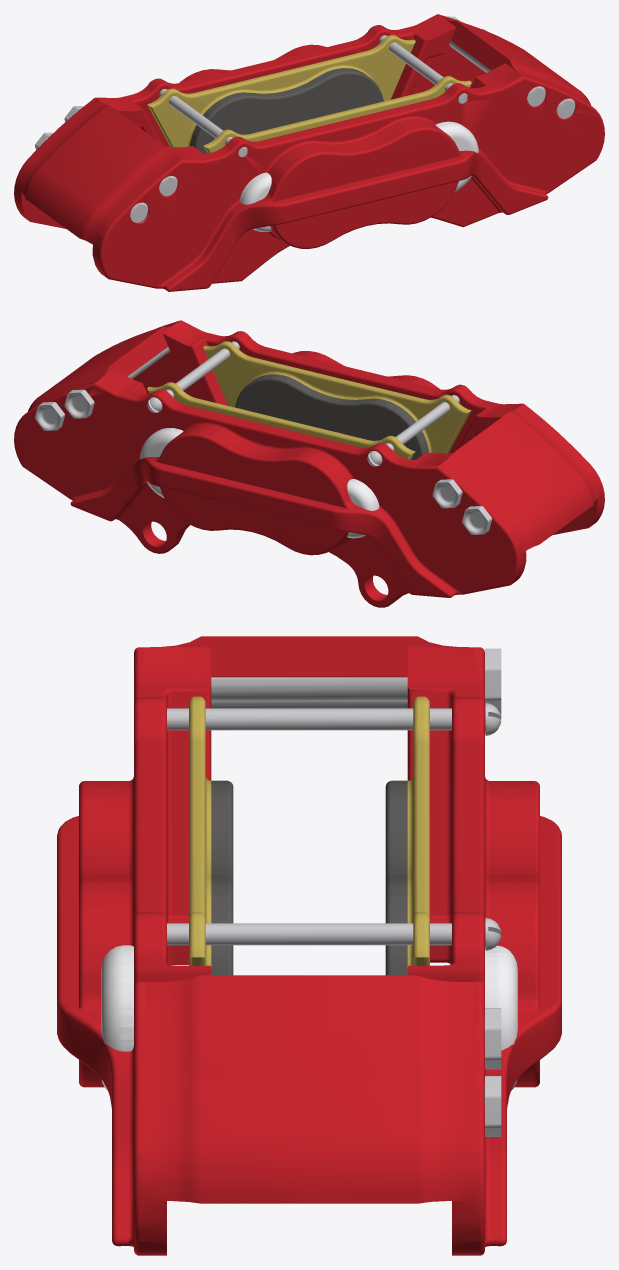
File: monoblock-6p.glb
3 renders of one model, top to bottom at view 1: azimuth 30°, elevation 25°; view 2: azimuth 150°, elevation 25°; view 3: azimuth 270°, elevation 25°, orthographic. The views are drawn at different scales.
Visible parts, largest first — view 1: CaliperBody, Pad_Inner, Pad_Outer, PadPin2, PadPin1, Piston_O3, Piston_O1, Bolt_A3, Bolt_A1, Bolt_A2; view 2: CaliperBody, Pad_Outer, Pad_Inner, Bolt_A3, PadPin1, PadPin2, Piston_I3, Piston_I1, Bolt_A2, Bolt_A4, Bolt_A1; view 3: CaliperBody, Pad_Outer, Pad_Inner, PadPin2, PadPin1, Bolt_A2, Piston_O3, Piston_I3, Bolt_A1, Bolt_A3, Bolt_A4.
Part boxes in pixels (<box>): CaliperBody: <box>14,14,604,291</box>; Pad_Inner: <box>147,35,415,153</box>; Pad_Outer: <box>203,76,471,153</box>; PadPin2: <box>368,27,467,103</box>; PadPin1: <box>148,80,247,156</box>; Piston_O3: <box>435,121,478,192</box>; Piston_O1: <box>239,172,271,231</box>; Bolt_A3: <box>446,16,545,106</box>; Bolt_A1: <box>35,132,148,223</box>; Bolt_A2: <box>64,106,177,196</box>; CaliperBody: <box>14,320,604,607</box>; Pad_Outer: <box>203,341,471,459</box>; Pad_Inner: <box>147,382,415,459</box>; Bolt_A3: <box>64,347,169,418</box>; PadPin1: <box>367,395,459,466</box>; PadPin2: <box>147,341,239,412</box>; Piston_I3: <box>140,428,183,497</box>; Piston_I1: <box>347,479,379,538</box>; Bolt_A2: <box>432,479,462,508</box>; Bolt_A4: <box>35,402,64,430</box>; Bolt_A1: <box>462,506,492,534</box>; CaliperBody: <box>57,636,561,1255</box>; Pad_Outer: <box>189,696,233,975</box>; Pad_Inner: <box>385,696,429,975</box>; PadPin2: <box>167,918,501,950</box>; PadPin1: <box>167,703,501,735</box>; Bolt_A2: <box>211,648,501,709</box>; Piston_O3: <box>101,945,133,1090</box>; Piston_I3: <box>485,945,517,1090</box>; Bolt_A1: <box>211,701,501,719</box>; Bolt_A3: <box>484,1008,501,1069</box>; Bolt_A4: <box>484,1076,501,1136</box>.
Size of the model in its own units: 0.288 by 0.0859 by 0.1226.
